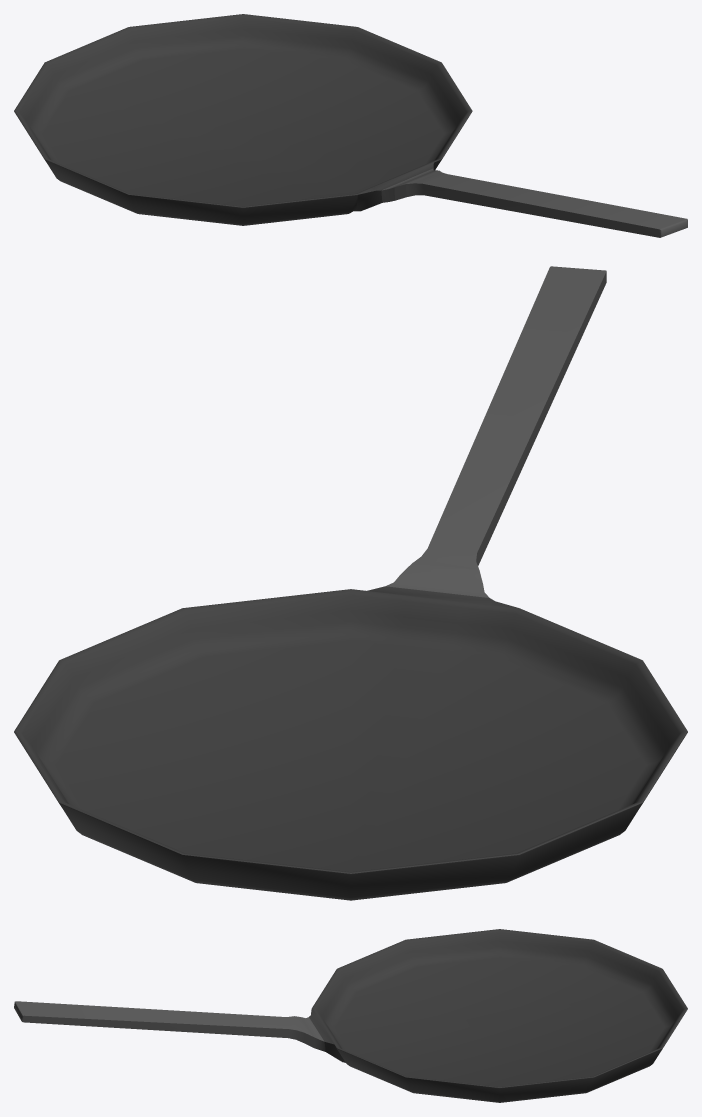
File: Medium Frying Pan.fbx
The picture shows the model from 3 angles, top to bottom: view 1: azimuth 30°, elevation 25°; view 2: azimuth 150°, elevation 25°; view 3: azimuth 270°, elevation 25°; orthographic projection. The views are drawn at different scales.
Parts seen in each view (by area): view 1: Medium Frying Pan; view 2: Medium Frying Pan; view 3: Medium Frying Pan.
Boxes of the visible parts, x1,y1,x2,y2 form: Medium Frying Pan: [14, 14, 687, 237]; Medium Frying Pan: [14, 266, 687, 900]; Medium Frying Pan: [14, 929, 687, 1102].
Size of the model in its own units: 33.65 by 7.72 by 60.26.
